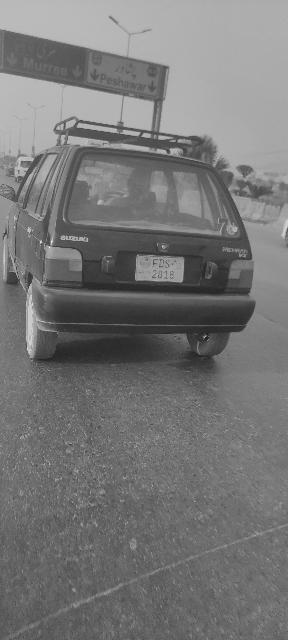Number: (149, 258, 177, 281)
